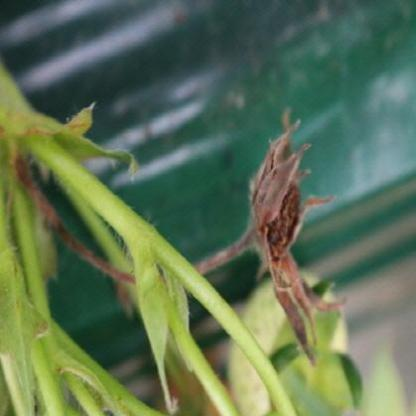Strawberry_Gray_Mold: (206, 119, 348, 368)
